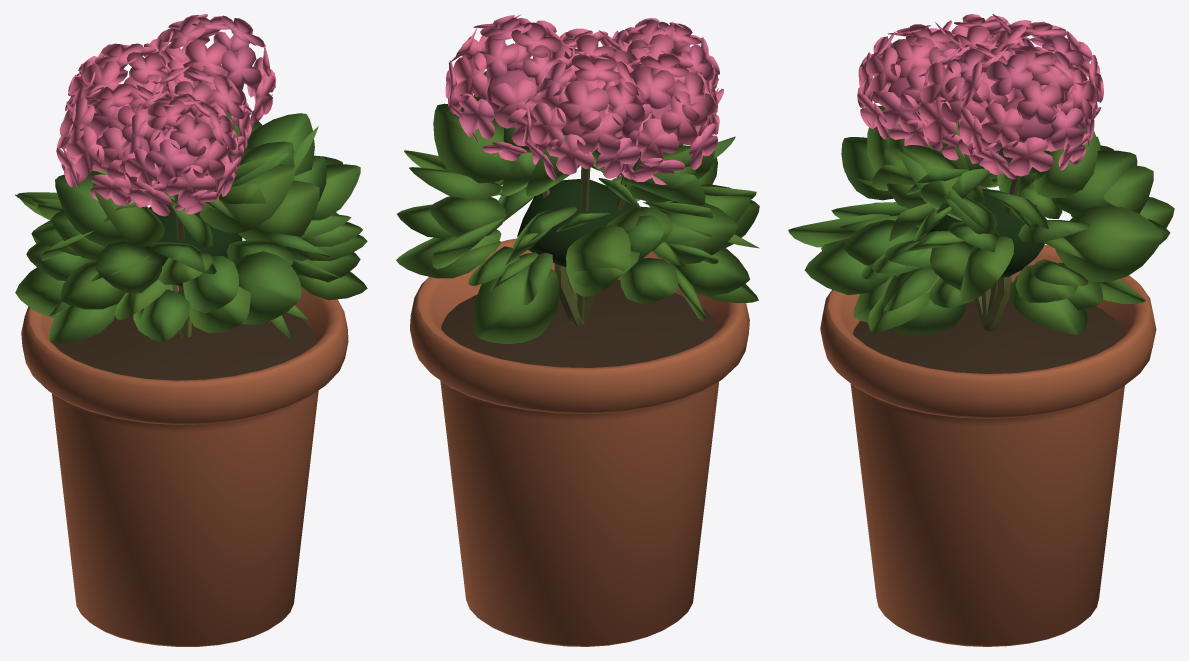
Rendered from pot_hydrangea.glb.
3 renders of one model, left to right at view 1: azimuth 30°, elevation 25°; view 2: azimuth 150°, elevation 25°; view 3: azimuth 270°, elevation 25°, orthographic. The views are drawn at different scales.
Visible parts, largest first — view 1: Sammel Putz, Sammel Pflanze, Sammel Blatt; view 2: Sammel Putz, Sammel Pflanze, Sammel Blatt; view 3: Sammel Putz, Sammel Pflanze, Sammel Blatt.
Part boxes in pixels (x1,y1,x2,y2): Sammel Putz: (21, 194, 348, 646); Sammel Pflanze: (15, 14, 367, 343); Sammel Blatt: (145, 204, 242, 286); Sammel Putz: (410, 152, 749, 646); Sammel Pflanze: (396, 14, 759, 344); Sammel Blatt: (517, 179, 638, 266); Sammel Putz: (820, 175, 1156, 646); Sammel Pflanze: (788, 14, 1174, 335); Sammel Blatt: (927, 190, 1044, 277).
Size of the model in its own units: 0.5325 by 0.9023 by 0.5504.
